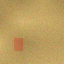vehicle: (14, 37, 23, 50)
